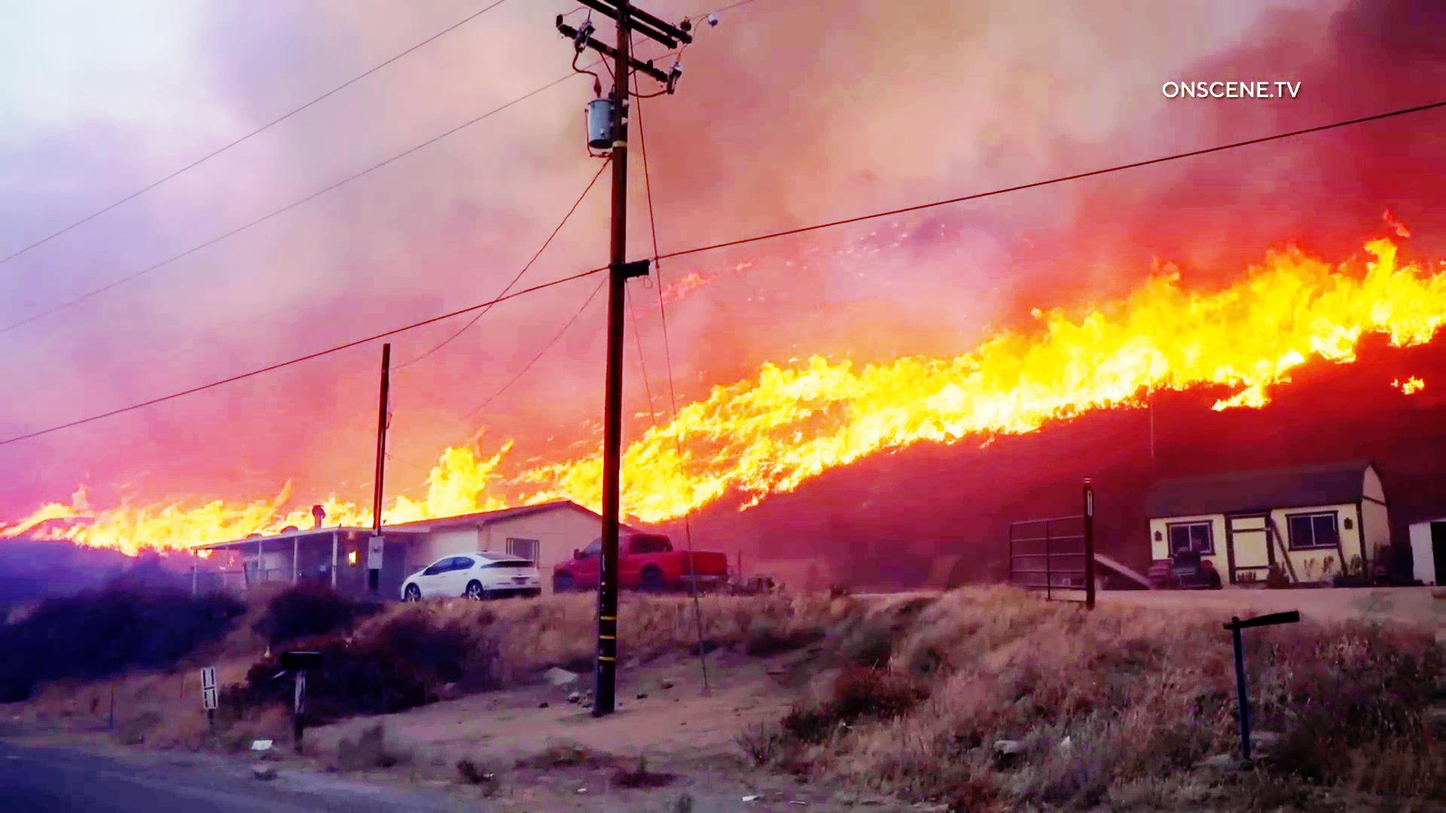fire: (642, 202, 1443, 507)
